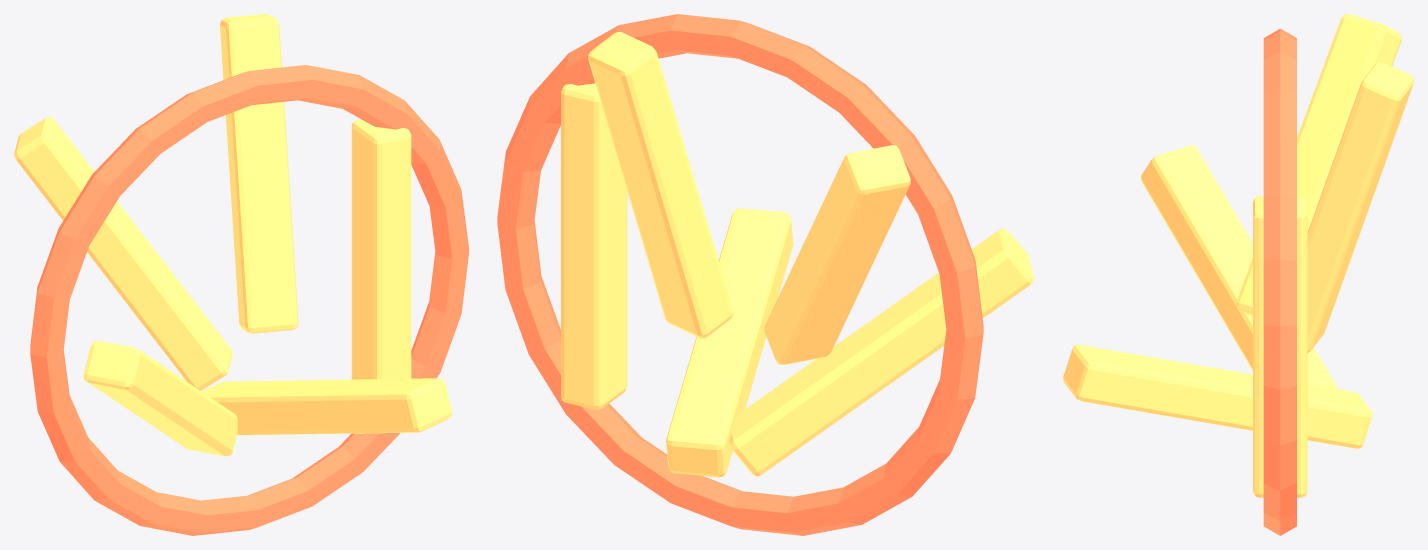
File: vfx_enemy_impact_qi_v0_7.glb
3 views of the same model, side by side, from view 1: azimuth 30°, elevation 25°; view 2: azimuth 150°, elevation 25°; view 3: azimuth 270°, elevation 25° (orthographic). The views are drawn at different scales.
Parts seen in each view (by area): view 1: presentation_qi_impact_ring, presentation_qi_impact_shard_1, presentation_qi_impact_shard_0, presentation_qi_impact_shard_2, presentation_qi_impact_shard_4, presentation_qi_impact_shard_3; view 2: presentation_qi_impact_ring, presentation_qi_impact_shard_1, presentation_qi_impact_shard_0, presentation_qi_impact_shard_3, presentation_qi_impact_shard_4, presentation_qi_impact_shard_2; view 3: presentation_qi_impact_ring, presentation_qi_impact_shard_4, presentation_qi_impact_shard_1, presentation_qi_impact_shard_3, presentation_qi_impact_shard_2, presentation_qi_impact_shard_0.
Boxes of the visible parts, bbox=[...] form: presentation_qi_impact_ring: bbox=[30, 65, 468, 535]; presentation_qi_impact_shard_1: bbox=[220, 14, 298, 333]; presentation_qi_impact_shard_0: bbox=[351, 119, 411, 379]; presentation_qi_impact_shard_2: bbox=[14, 117, 232, 390]; presentation_qi_impact_shard_4: bbox=[202, 378, 451, 435]; presentation_qi_impact_shard_3: bbox=[83, 340, 237, 456]; presentation_qi_impact_ring: bbox=[497, 14, 983, 535]; presentation_qi_impact_shard_1: bbox=[588, 32, 733, 338]; presentation_qi_impact_shard_0: bbox=[561, 83, 627, 409]; presentation_qi_impact_shard_3: bbox=[729, 228, 1034, 476]; presentation_qi_impact_shard_4: bbox=[666, 208, 793, 477]; presentation_qi_impact_shard_2: bbox=[764, 145, 910, 365]; presentation_qi_impact_ring: bbox=[1263, 28, 1296, 535]; presentation_qi_impact_shard_4: bbox=[1063, 344, 1372, 448]; presentation_qi_impact_shard_1: bbox=[1307, 62, 1413, 352]; presentation_qi_impact_shard_3: bbox=[1141, 145, 1337, 389]; presentation_qi_impact_shard_2: bbox=[1236, 14, 1401, 317]; presentation_qi_impact_shard_0: bbox=[1253, 196, 1307, 497].
Size of the model in its own units: 0.93 by 0.9397 by 0.6402.
